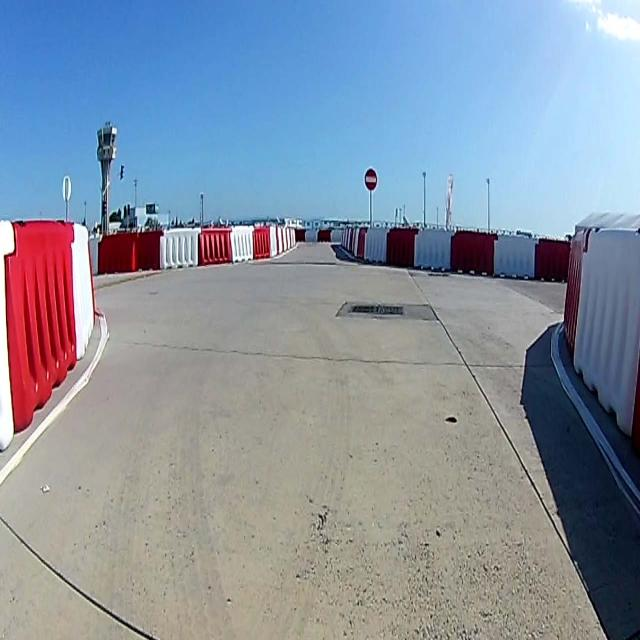girisyok: (363, 169, 378, 191)
